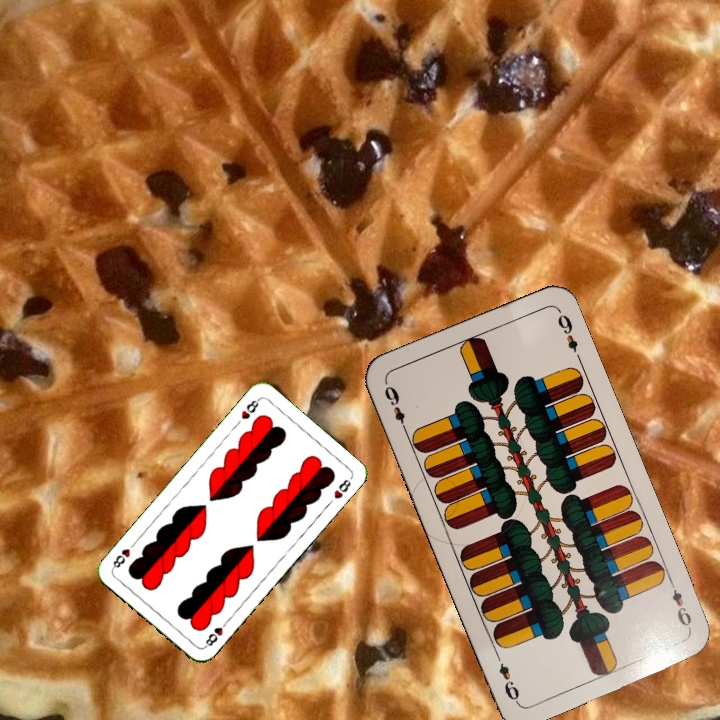E9: (380, 379, 410, 436), (665, 576, 694, 633)
H8: (200, 616, 231, 650), (237, 394, 262, 422)
